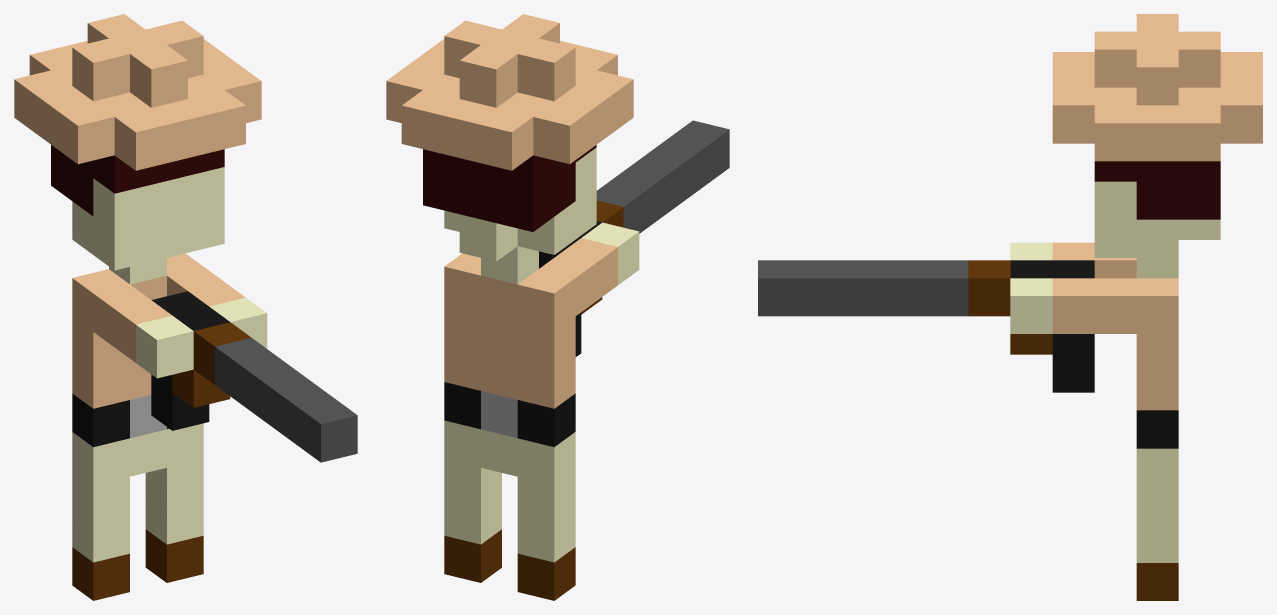
File: Savanna2.obj
The picture shows the model from 3 angles, left to right: view 1: azimuth 30°, elevation 25°; view 2: azimuth 150°, elevation 25°; view 3: azimuth 270°, elevation 25°; orthographic projection.
Size of the model in its own units: 5 by 14 by 12.
Materials: 1 (1 with a texture image).
